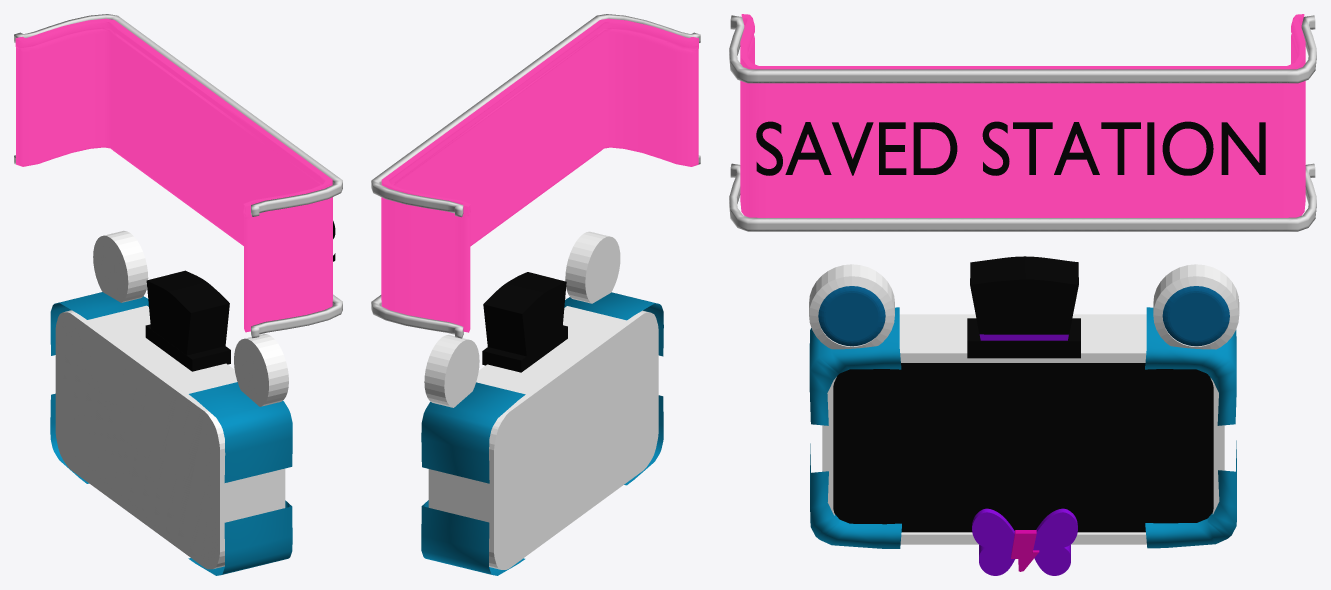
File: Fnaf Security Breach Saved station.fbx
3 views of the same model, side by side, from view 1: azimuth 30°, elevation 25°; view 2: azimuth 150°, elevation 25°; view 3: azimuth 270°, elevation 25° (orthographic). The views are drawn at different scales.
Parts seen in each view (by area): view 1: Плоскость, Куб, Куб.005, Куб.001, Куб.004, Цилиндр.001, Цилиндр, Куб.002, Куб.003; view 2: Плоскость, Куб, Куб.005, Куб.002, Куб.003, Цилиндр.001, Цилиндр, Куб.001, Куб.004; view 3: Плоскость, Куб, Куб.005, Текст, Цилиндр.001, Цилиндр, Куб.002, Куб.001, Куб.003, Куб.004, Цилиндр.003, Цилиндр.002 (+1 smaller).
Part boxes in pixels (x1,y1,x2,y2): Плоскость: [14, 14, 342, 338]; Куб: [55, 305, 285, 569]; Куб.005: [145, 270, 230, 371]; Куб.001: [189, 382, 292, 482]; Куб.004: [188, 500, 292, 575]; Цилиндр.001: [93, 230, 148, 302]; Цилиндр: [234, 334, 288, 406]; Куб.002: [50, 292, 148, 355]; Куб.003: [50, 393, 88, 483]; Плоскость: [371, 14, 700, 338]; Куб: [428, 306, 658, 569]; Куб.005: [482, 272, 567, 372]; Куб.002: [421, 382, 525, 483]; Куб.003: [421, 500, 524, 575]; Цилиндр.001: [424, 334, 479, 407]; Цилиндр: [565, 231, 620, 303]; Куб.001: [564, 292, 663, 356]; Куб.004: [624, 395, 663, 485]; Плоскость: [729, 14, 1316, 231]; Куб: [822, 314, 1224, 544]; Куб.005: [967, 256, 1080, 358]; Текст: [756, 121, 1265, 175]; Цилиндр.001: [1153, 264, 1239, 349]; Цилиндр: [809, 264, 894, 349]; Куб.002: [1145, 307, 1236, 425]; Куб.001: [809, 307, 901, 425]; Куб.003: [1145, 440, 1236, 548]; Куб.004: [810, 443, 901, 548]; Цилиндр.003: [1033, 508, 1077, 575]; Цилиндр.002: [972, 508, 1015, 575].
Bounding box in the file's own units: 43.85 × 178 × 183.
